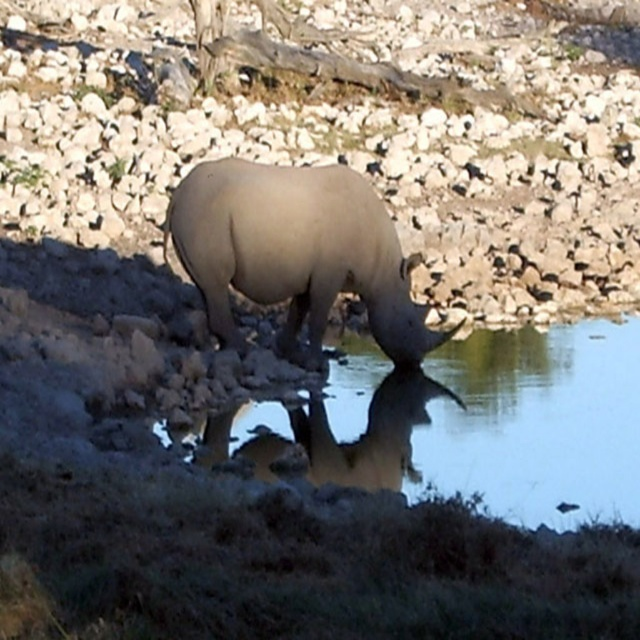Rhinoceros: (163, 149, 464, 375)
